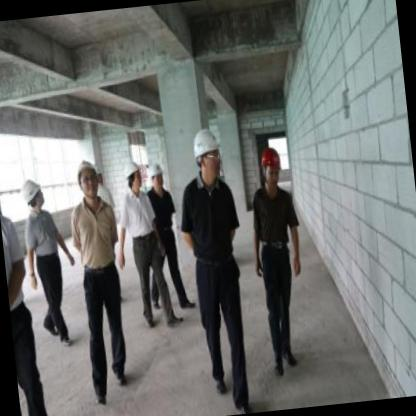bee: (188, 122, 226, 186), (254, 142, 285, 197), (17, 171, 50, 216), (73, 156, 100, 202), (144, 153, 168, 199), (122, 154, 146, 198)
